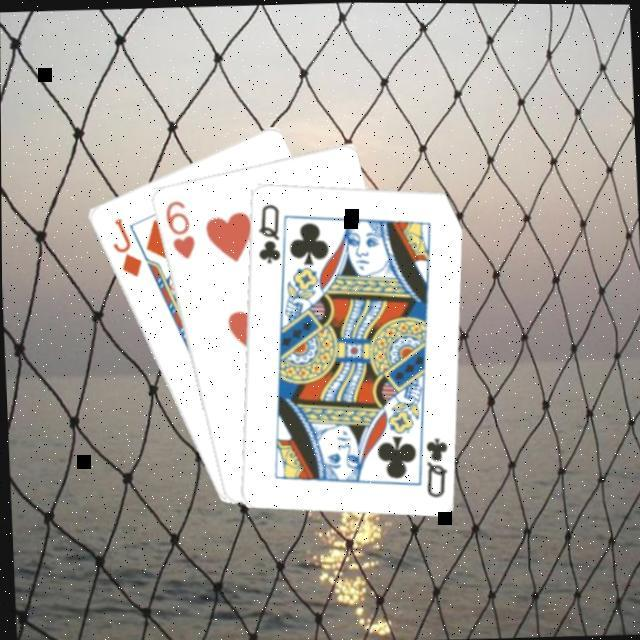6H: (158, 194, 195, 259)
JD: (104, 212, 142, 278)
QC: (418, 430, 449, 497), (250, 197, 280, 264)
